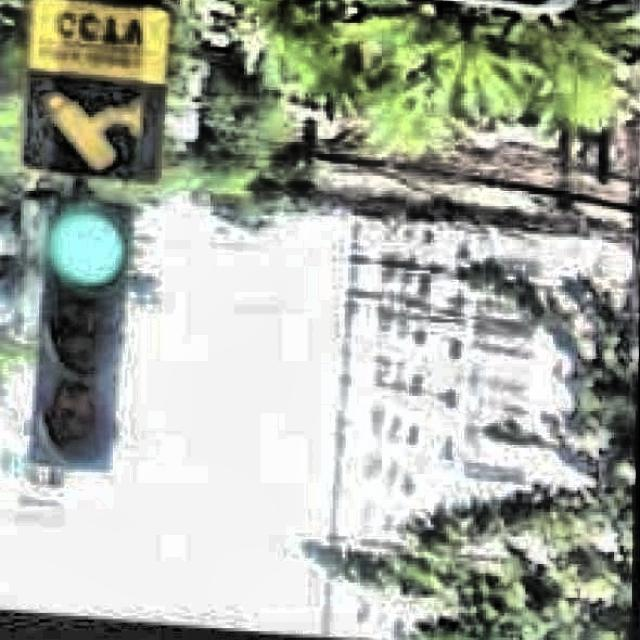green: (24, 204, 129, 469)
